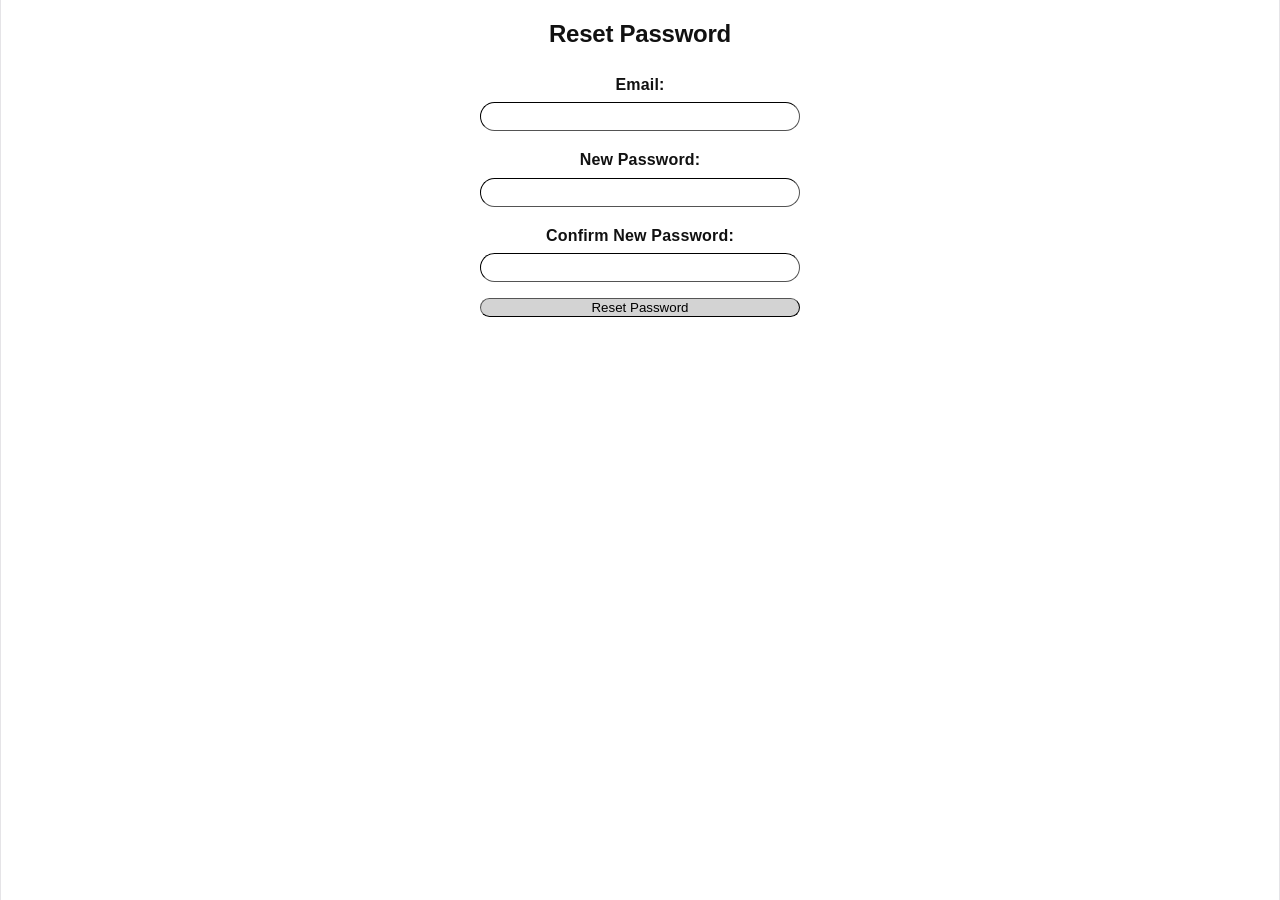
Test: shows error when password is too short
In the field labelled "Email:": (640, 117) [480, 102, 800, 131], type "test@test.com"
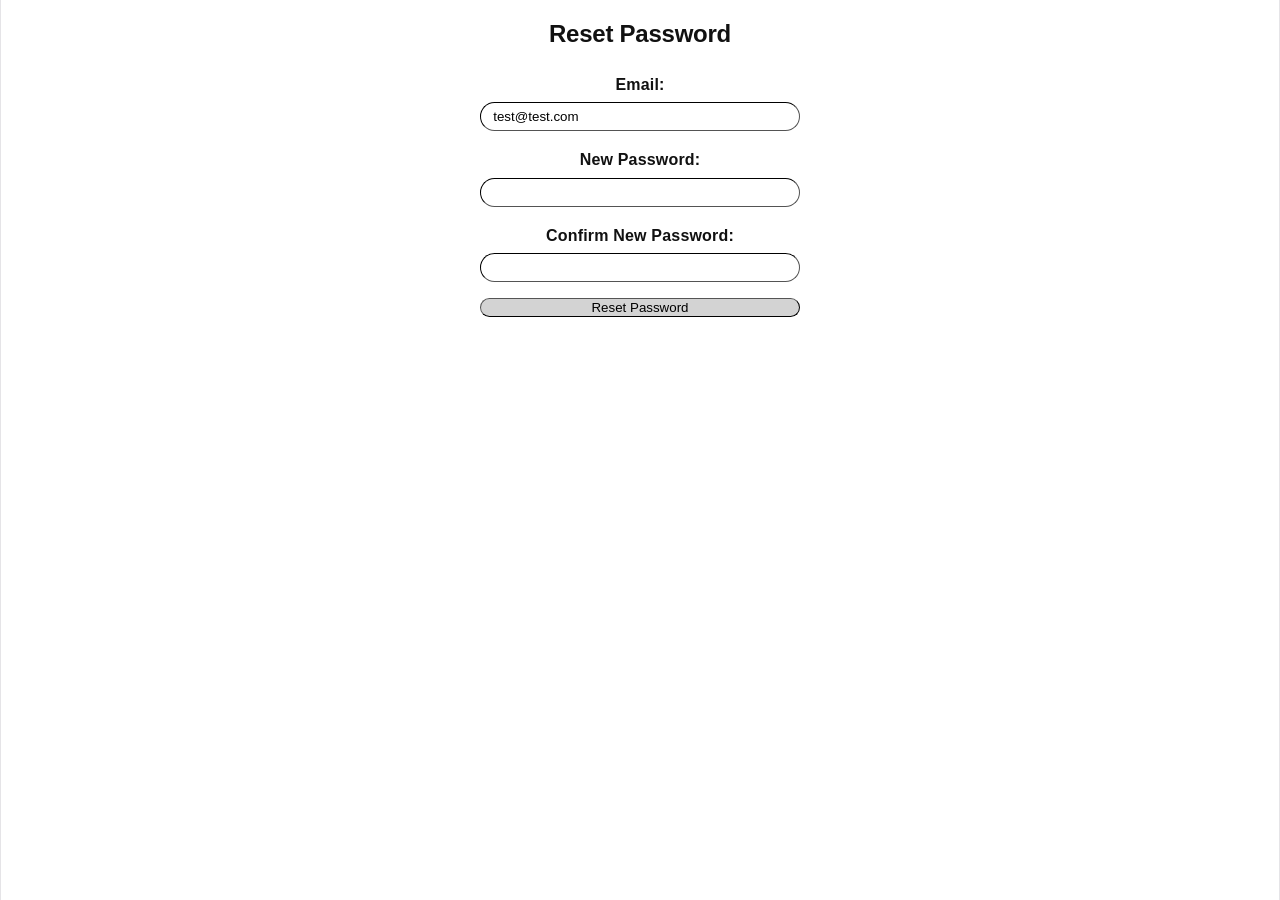
In the password field labelled "New Password:": (640, 192) [480, 178, 800, 206], type "short"
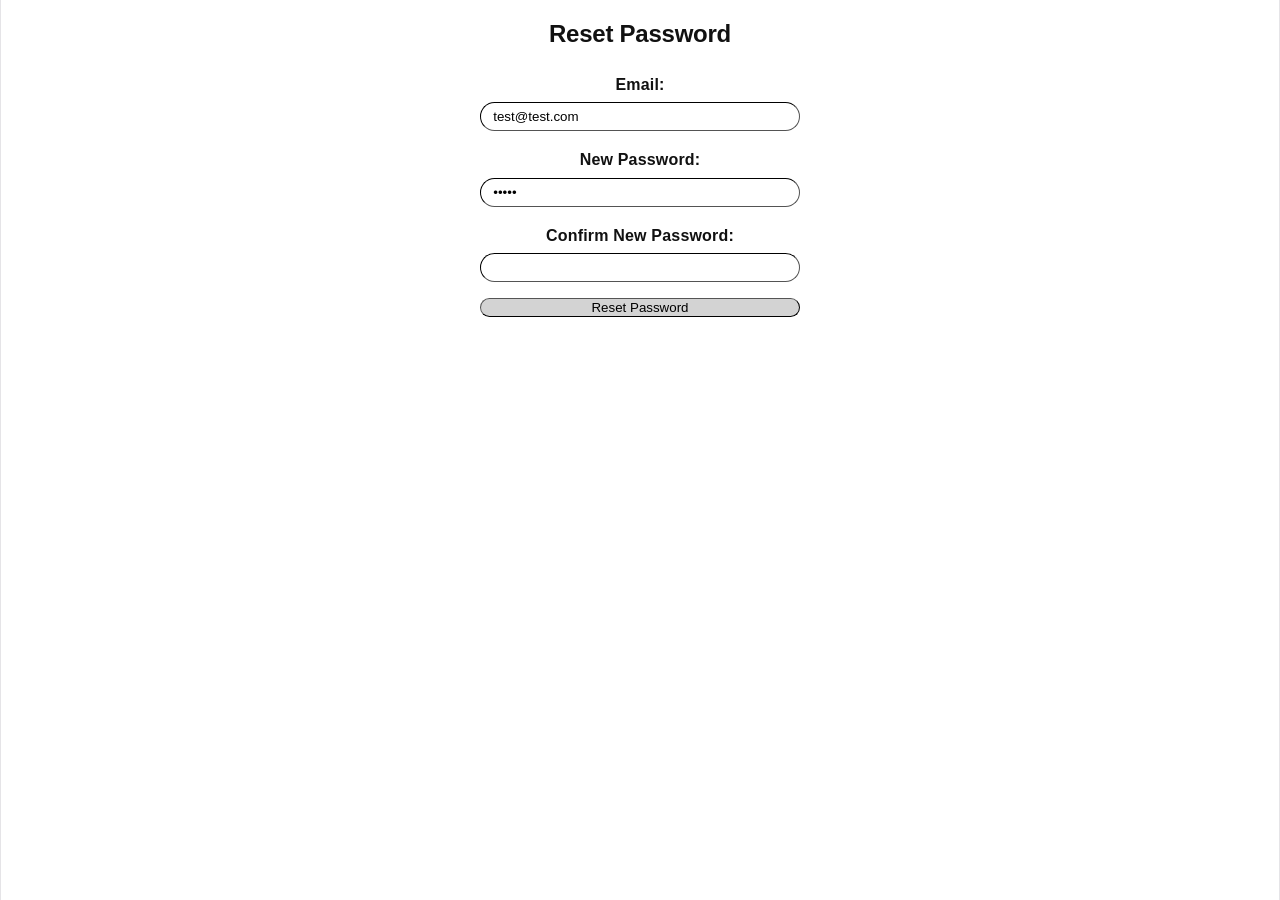
In the password field labelled "Confirm New Password:": (640, 267) [480, 253, 800, 282], type "short"
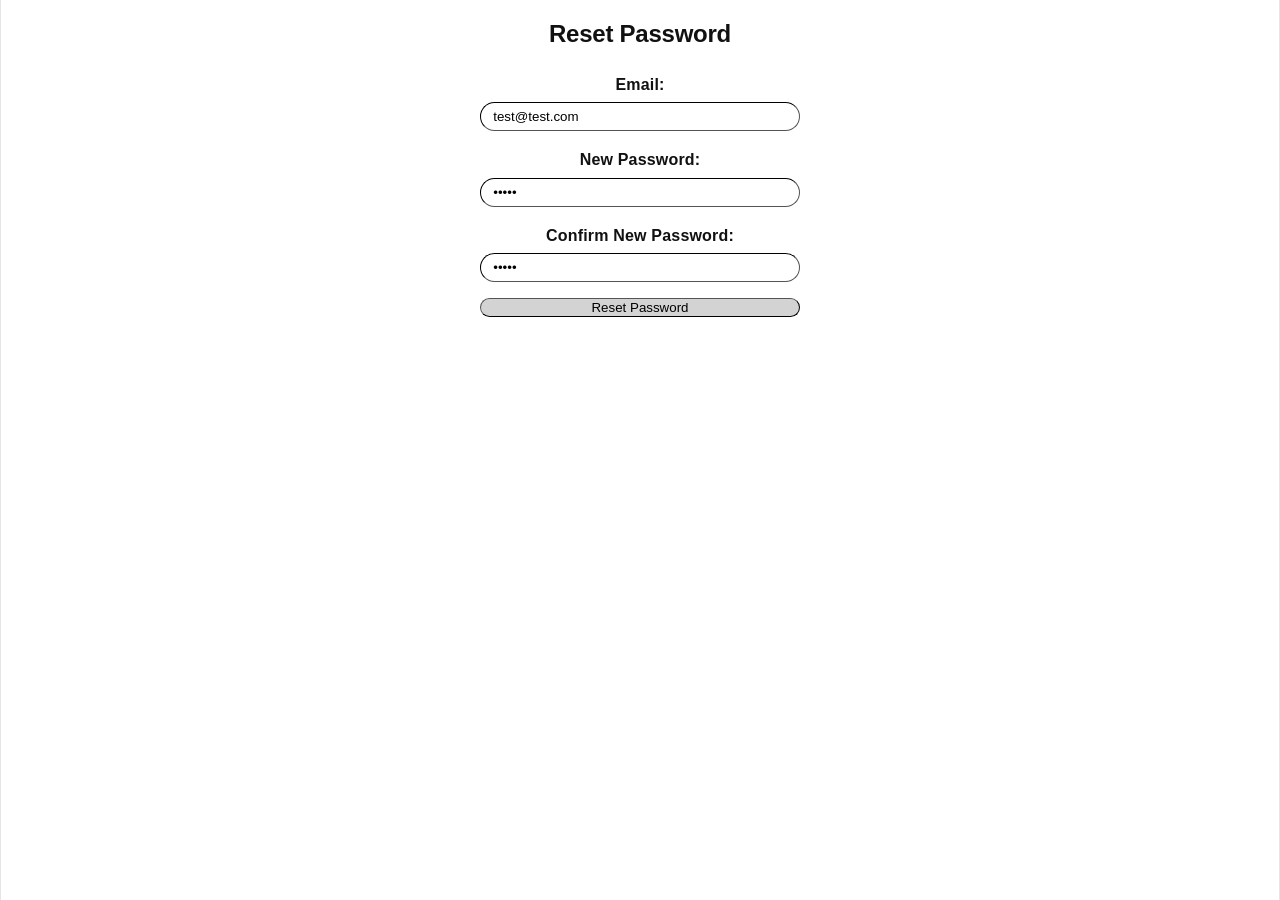
Click the button "Reset Password": (640, 307) [480, 298, 800, 317]
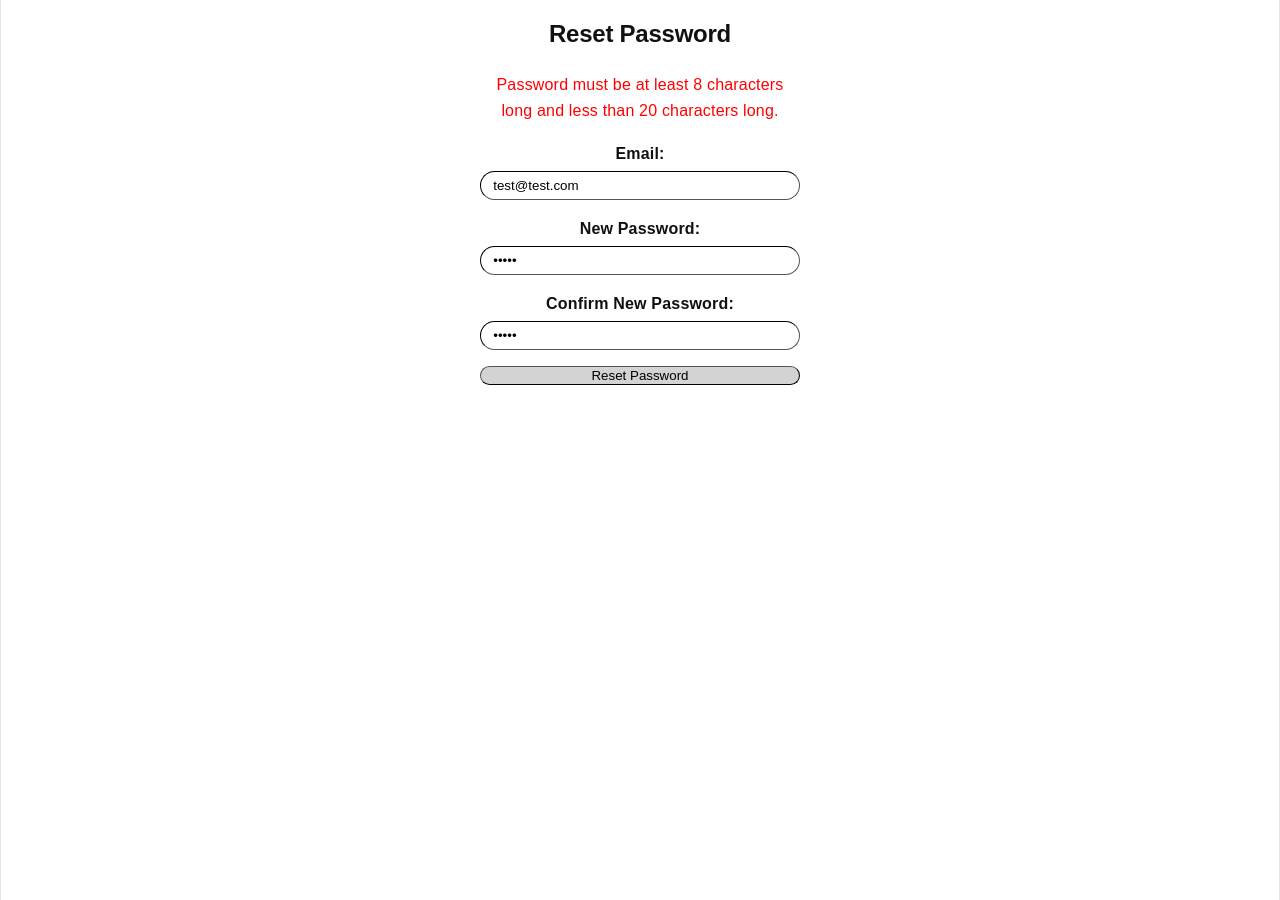
Expected: the text "Password must be at least 8 characters" is shown, [496, 76, 784, 119]
